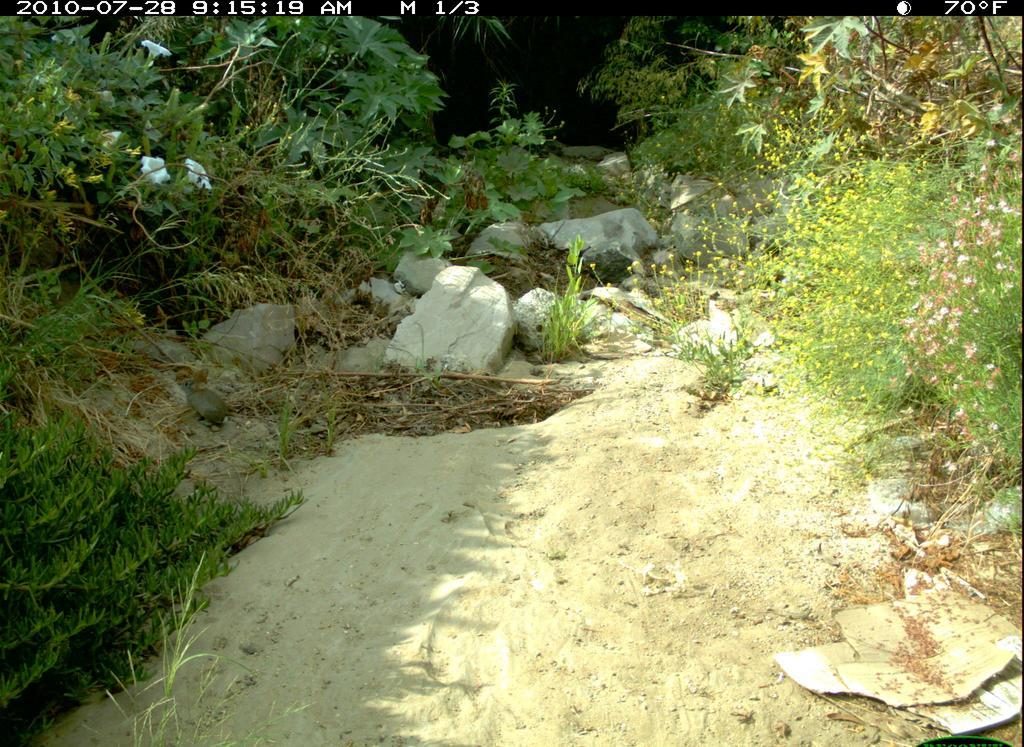rabbit: (177, 364, 238, 431)
